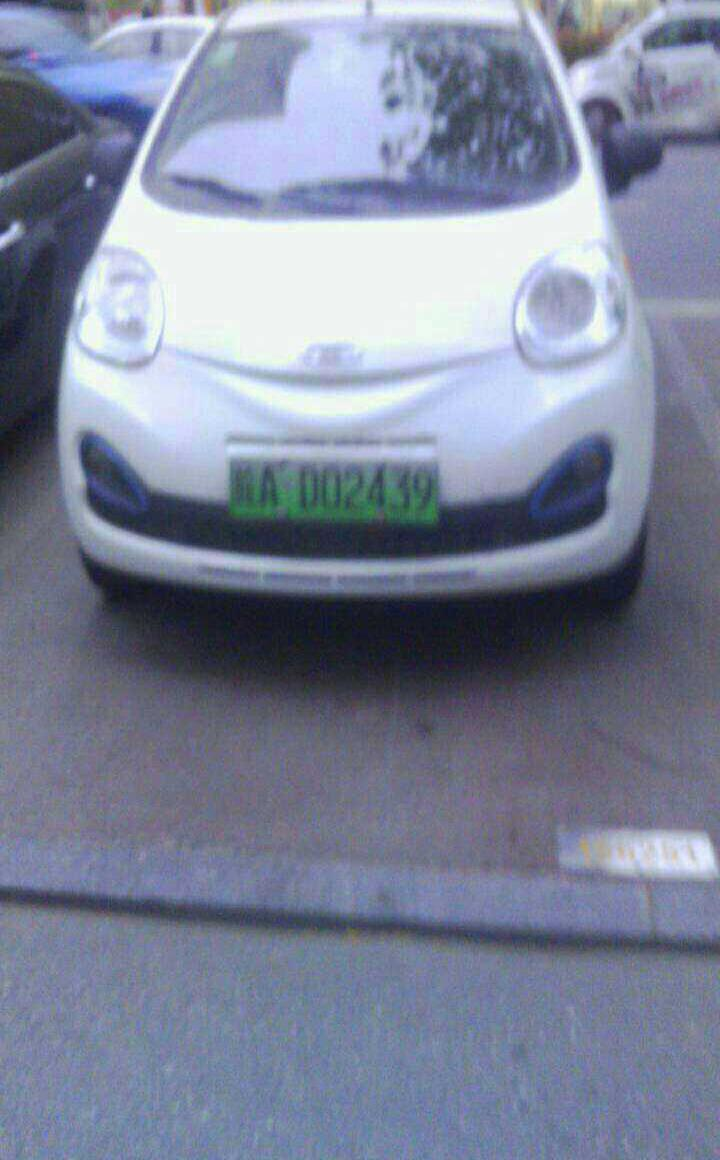car: (217, 454, 448, 534)
